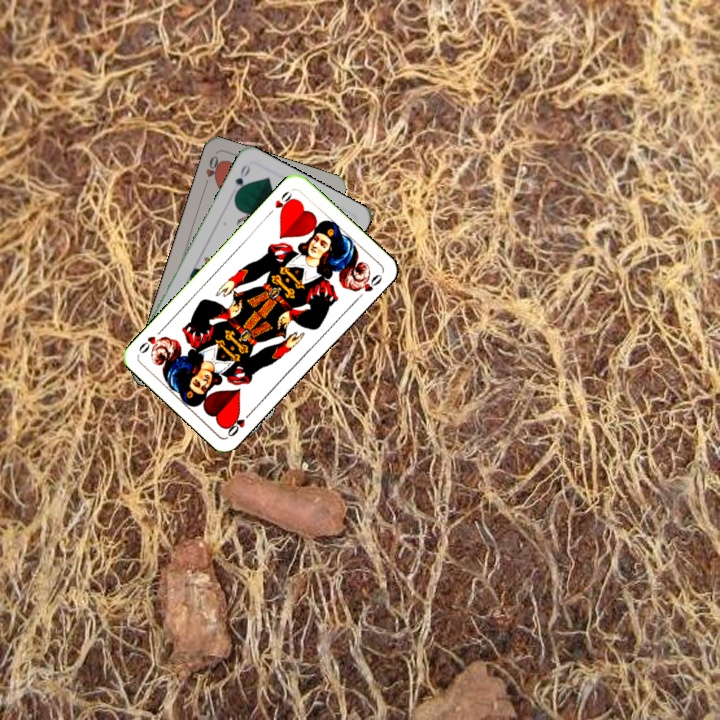GO: (231, 161, 253, 199)
HO: (222, 406, 256, 439), (264, 187, 297, 218), (200, 151, 223, 190)
